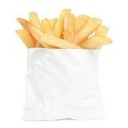frenchfries: (16, 5, 112, 50)
